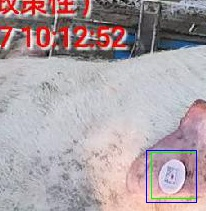text: (151, 152, 196, 198)
